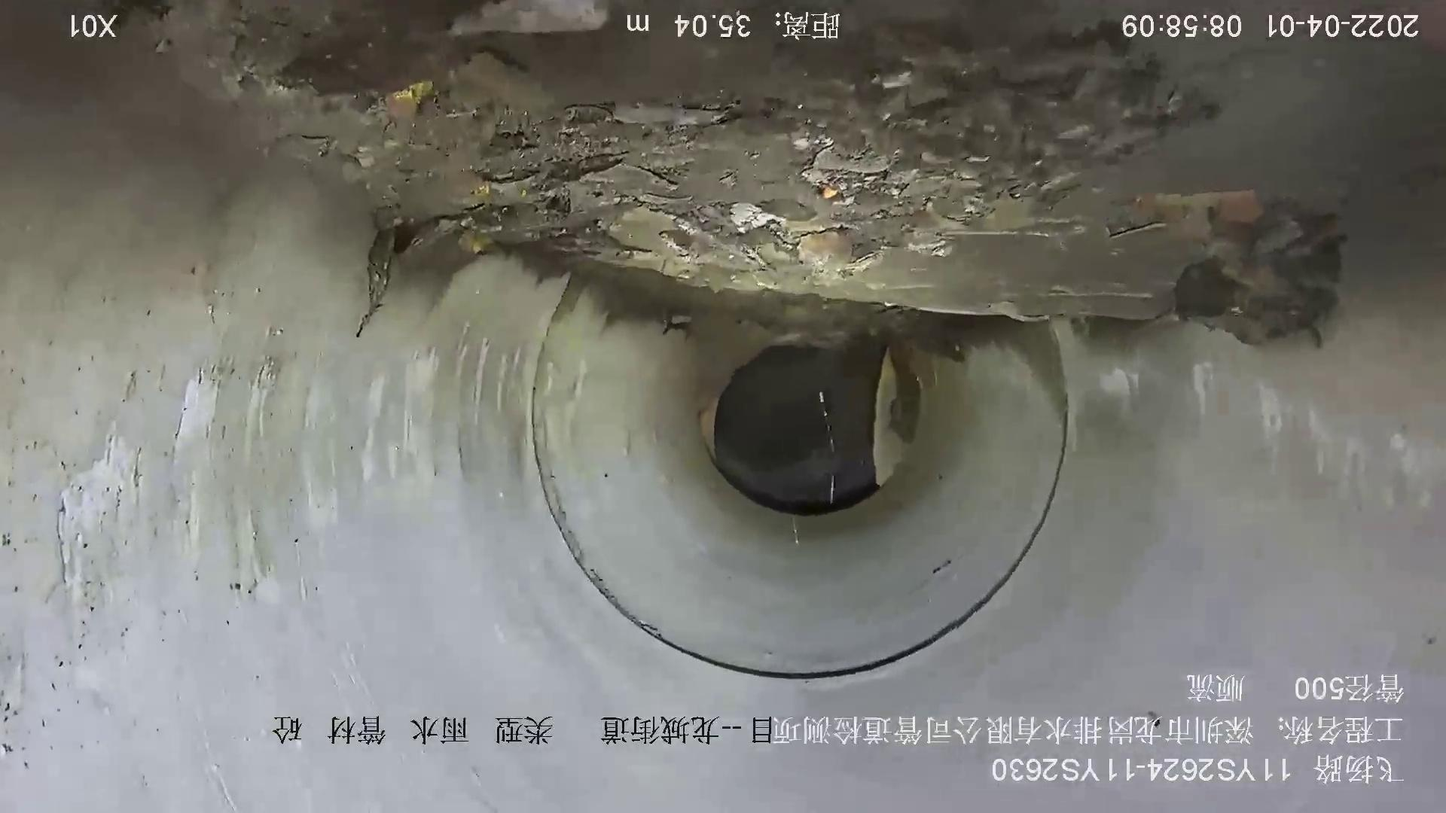CJ: (127, 1, 1446, 349)
CKTJ: (522, 263, 1081, 689)
